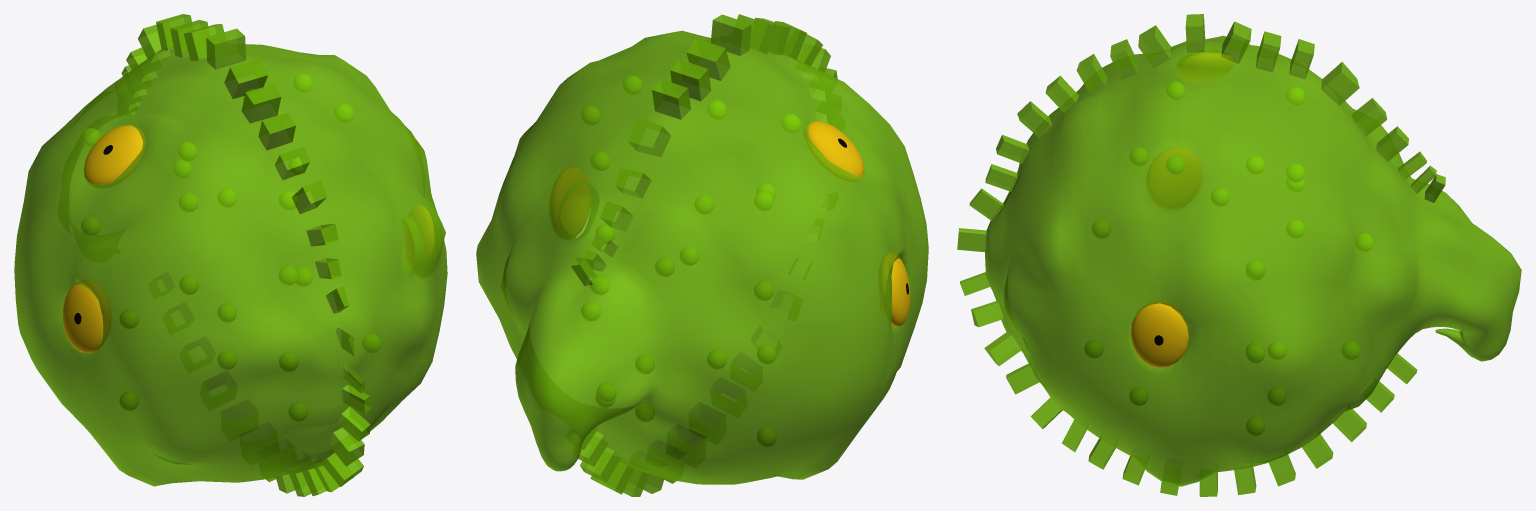
Rendered from Green Germ.fbx.
The picture shows the model from 3 angles, left to right: view 1: azimuth 30°, elevation 25°; view 2: azimuth 150°, elevation 25°; view 3: azimuth 270°, elevation 25°; orthographic projection. The views are drawn at different scales.
Parts seen in each view (by area): view 1: pSphere85; view 2: pSphere85; view 3: pSphere85.
Part boxes in pixels (<box>): pSphere85: <box>14,14,447,496</box>; pSphere85: <box>476,14,928,496</box>; pSphere85: <box>957,14,1521,496</box>.
Bounding box in the file's own units: 1.94 × 2.24 × 2.56.
